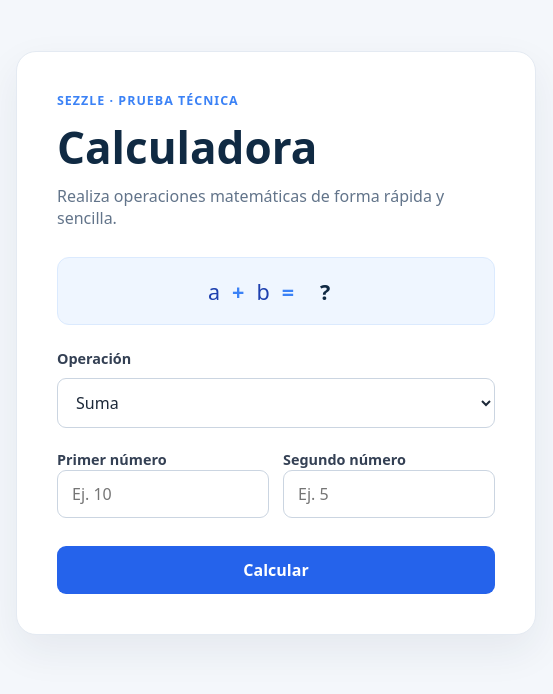
Test case: Calculator › clears validation errors when editing an operand
Click the button "Calcular".
click(276, 570)  # box [57, 546, 495, 594]
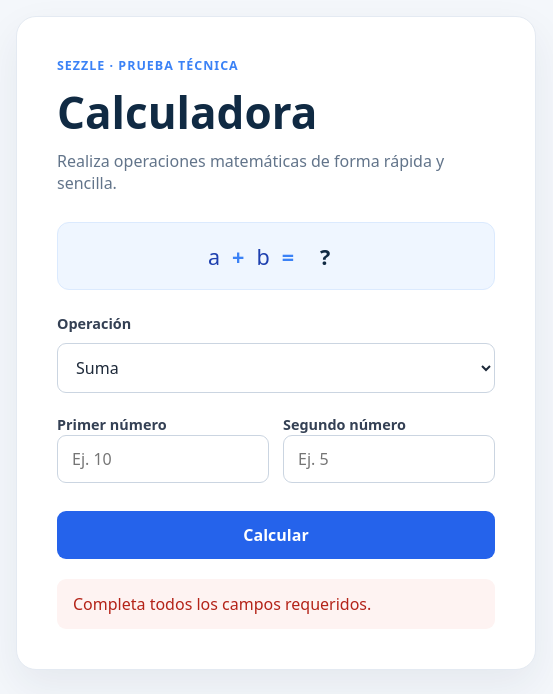
Expected: the message "Completa todos los campos requeridos." is shown, [57, 579, 495, 629]
Type "25" into the field labelled "Primer número".
click(163, 459); type("25")  # box [57, 435, 269, 483]
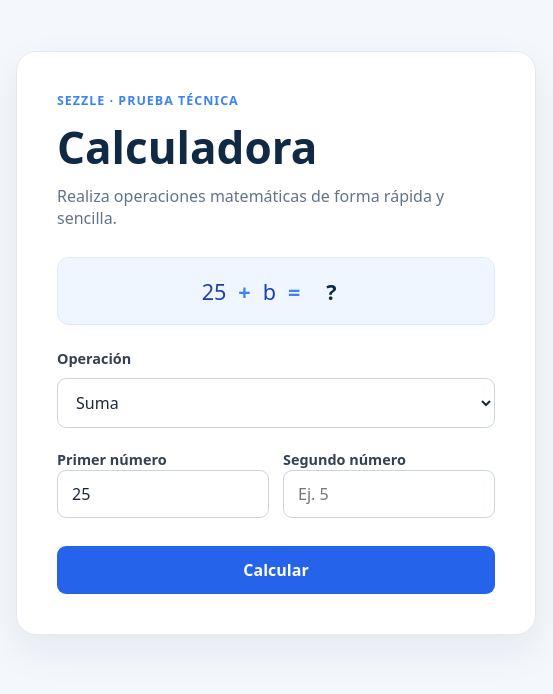
Expected: the message "Completa todos los campos requeridos." is gone
